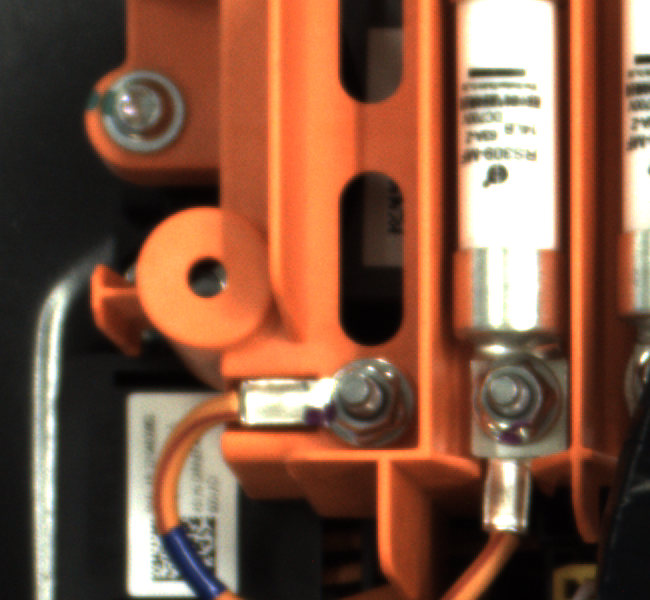screw_m: (93, 66, 199, 159)
screw_s: (462, 361, 578, 463), (319, 354, 422, 448)
